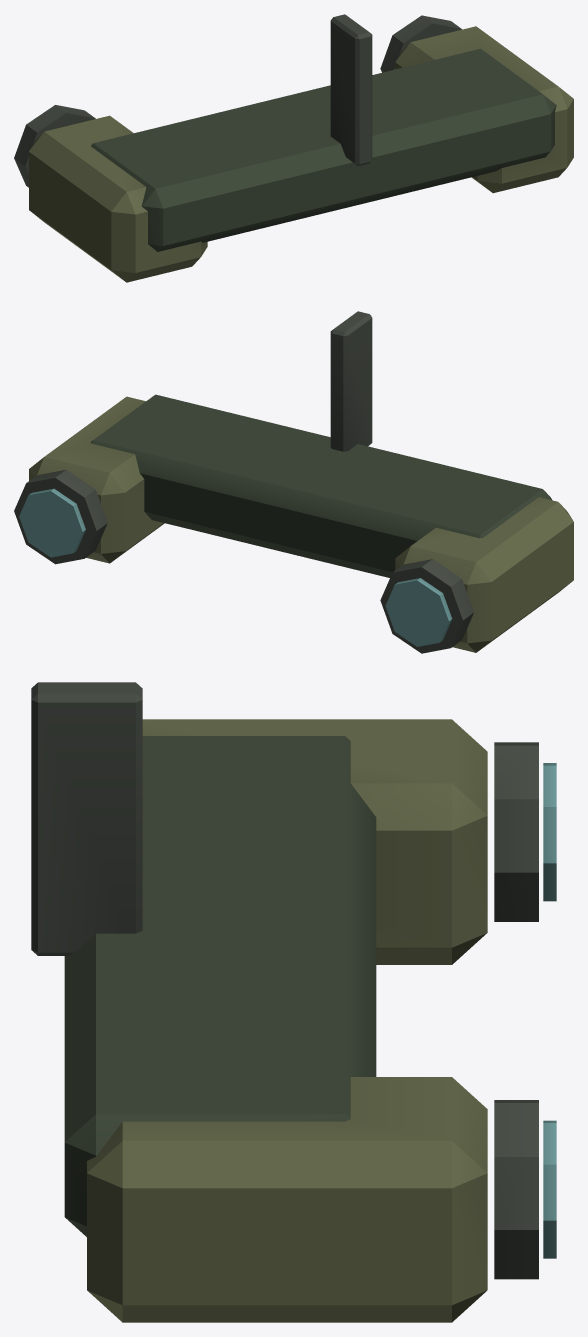
The model's file is sensor_precision.glb.
The picture shows the model from 3 angles, top to bottom: view 1: azimuth 30°, elevation 25°; view 2: azimuth 150°, elevation 25°; view 3: azimuth 270°, elevation 25°; orthographic projection. The views are drawn at different scales.
Parts seen in each view (by area): view 1: Rangefinder_bridge, Optical_bunker, Optical_bunker.001, Survey_antenna, Long_range_lens_rim, Long_range_lens_rim.001; view 2: Rangefinder_bridge, Optical_bunker, Optical_bunker.001, Survey_antenna, Long_range_lens.001, Long_range_lens, Long_range_lens_rim, Long_range_lens_rim.001; view 3: Rangefinder_bridge, Optical_bunker.001, Optical_bunker, Survey_antenna, Long_range_lens_rim, Long_range_lens_rim.001, Long_range_lens, Long_range_lens.001.
Boxes of the visible parts, box(x1,y1,x2,y2) form: Rangefinder_bridge: box(91, 48, 556, 251); Optical_bunker: box(29, 115, 207, 282); Optical_bunker.001: box(395, 26, 573, 193); Survey_antenna: box(330, 14, 372, 165); Long_range_lens_rim: box(14, 105, 95, 187); Long_range_lens_rim.001: box(380, 15, 461, 72); Rangefinder_bridge: box(91, 394, 552, 577); Optical_bunker: box(395, 497, 573, 652); Optical_bunker.001: box(29, 396, 164, 563); Survey_antenna: box(330, 311, 372, 451); Long_range_lens.001: box(19, 488, 85, 557); Long_range_lens: box(385, 578, 452, 646); Long_range_lens_rim: box(380, 559, 473, 653); Long_range_lens_rim.001: box(14, 469, 107, 564); Rangefinder_bridge: box(64, 736, 376, 1236); Optical_bunker.001: box(87, 1077, 487, 1322); Optical_bunker: box(142, 719, 487, 964); Survey_antenna: box(31, 682, 142, 955); Long_range_lens_rim: box(494, 742, 538, 921); Long_range_lens_rim.001: box(494, 1100, 538, 1279); Long_range_lens: box(543, 763, 556, 901); Long_range_lens.001: box(543, 1120, 556, 1258).
Size of the model in its own units: 0.48 by 0.21 by 0.236.
